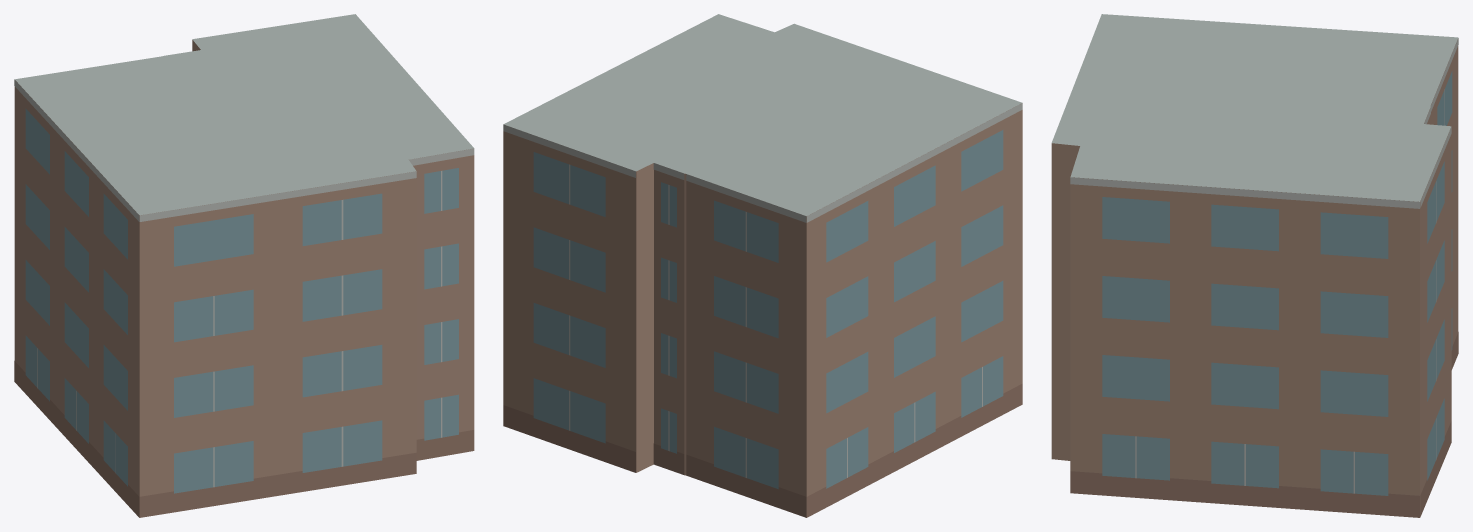
Rendered from survey-upis-32823007.glb.
3 views of the same model, side by side, from view 1: azimuth 30°, elevation 25°; view 2: azimuth 150°, elevation 25°; view 3: azimuth 270°, elevation 25° (orthographic). The views are drawn at different scales.
Parts seen in each view (by area): view 1: survey-upis-32823007.tmp; view 2: survey-upis-32823007.tmp; view 3: survey-upis-32823007.tmp.
Boxes of the visible parts, x1,y1,x2,y2 form: survey-upis-32823007.tmp: (14,14,474,517); survey-upis-32823007.tmp: (503,14,1022,517); survey-upis-32823007.tmp: (1051,14,1458,517).
Size of the model in its own units: 13.91 by 10.9 by 12.73.
